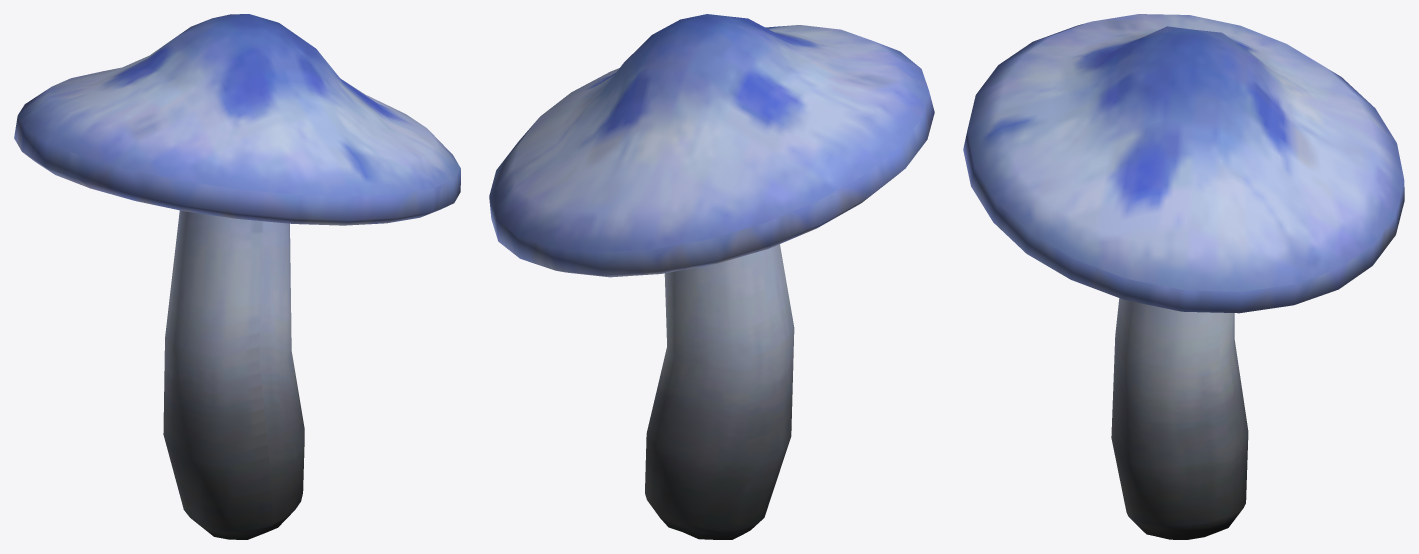
Rendered from INST_TROLLHOLE_SHROOMA4.fbx.
3 renders of one model, left to right at view 1: azimuth 30°, elevation 25°; view 2: azimuth 150°, elevation 25°; view 3: azimuth 270°, elevation 25°, orthographic. The views are drawn at different scales.
Parts seen in each view (by area): view 1: INST_TROLLHOLE_SHROOMA4; view 2: INST_TROLLHOLE_SHROOMA4; view 3: INST_TROLLHOLE_SHROOMA4.
Boxes of the visible parts, left/top/right/bottom form: INST_TROLLHOLE_SHROOMA4: left=14, top=14, right=460, bottom=539; INST_TROLLHOLE_SHROOMA4: left=489, top=14, right=934, bottom=539; INST_TROLLHOLE_SHROOMA4: left=963, top=14, right=1404, bottom=539.
Size of the model in its own units: 29754 by 37397 by 29989.
Materials: 1 (1 with a texture image).
